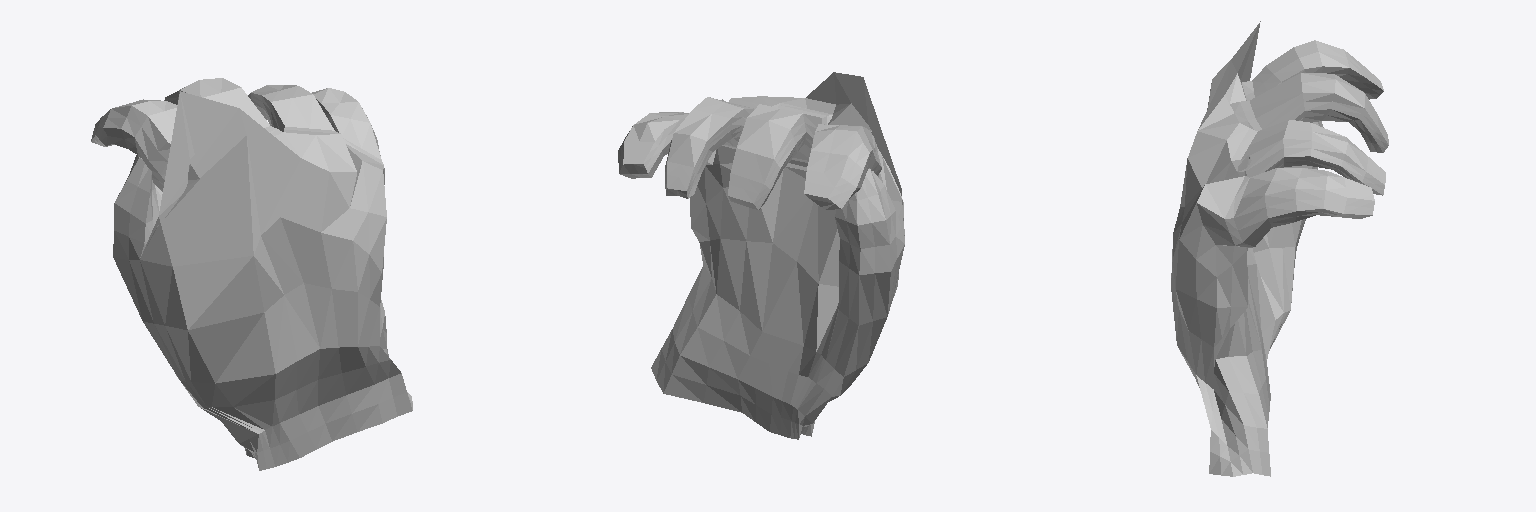
Rendered from grip0050.obj.
3 renders of one model, left to right at view 1: azimuth 30°, elevation 25°; view 2: azimuth 150°, elevation 25°; view 3: azimuth 270°, elevation 25°, orthographic.
Visible parts, largest first — view 1: Hand; view 2: Hand; view 3: Hand.
Boxes of the visible parts, x1,y1,x2,y2 form: Hand: [91, 78, 412, 470]; Hand: [618, 72, 904, 439]; Hand: [1171, 21, 1388, 476].
Size of the model in its own units: 2.78 by 3.85 by 1.97.